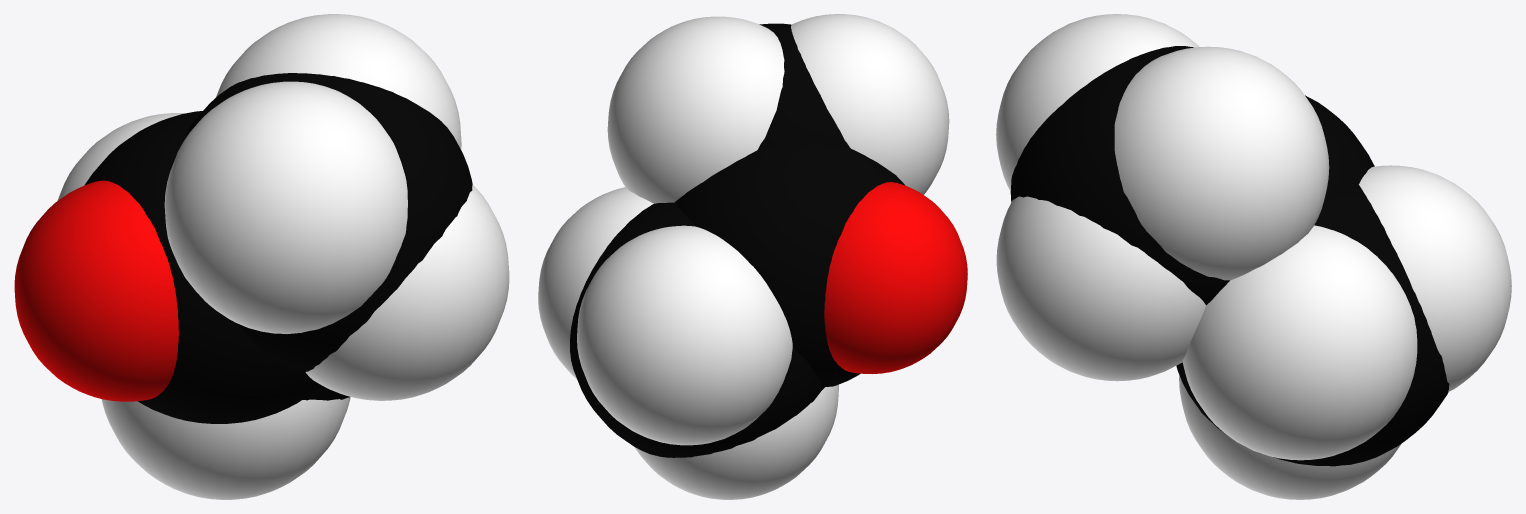
Rendered from acetona.obj.
The picture shows the model from 3 angles, left to right: view 1: azimuth 30°, elevation 25°; view 2: azimuth 150°, elevation 25°; view 3: azimuth 270°, elevation 25°; orthographic projection. The views are drawn at different scales.
Parts seen in each view (by area): view 1: Hydrogen_ball, Carbon_ball, Oxygen_ball; view 2: Hydrogen_ball, Carbon_ball, Oxygen_ball; view 3: Hydrogen_ball, Carbon_ball.
Part boxes in pixels (x1,y1,x2,y2): Hydrogen_ball: (57, 14, 509, 499); Carbon_ball: (84, 73, 472, 423); Oxygen_ball: (14, 180, 178, 401); Hydrogen_ball: (538, 14, 949, 499); Carbon_ball: (570, 23, 905, 457); Oxygen_ball: (824, 182, 967, 373); Hydrogen_ball: (996, 14, 1511, 499); Carbon_ball: (1010, 46, 1449, 466).
Bounding box in the file's own units: 2.88 × 3.08 × 3.14.
